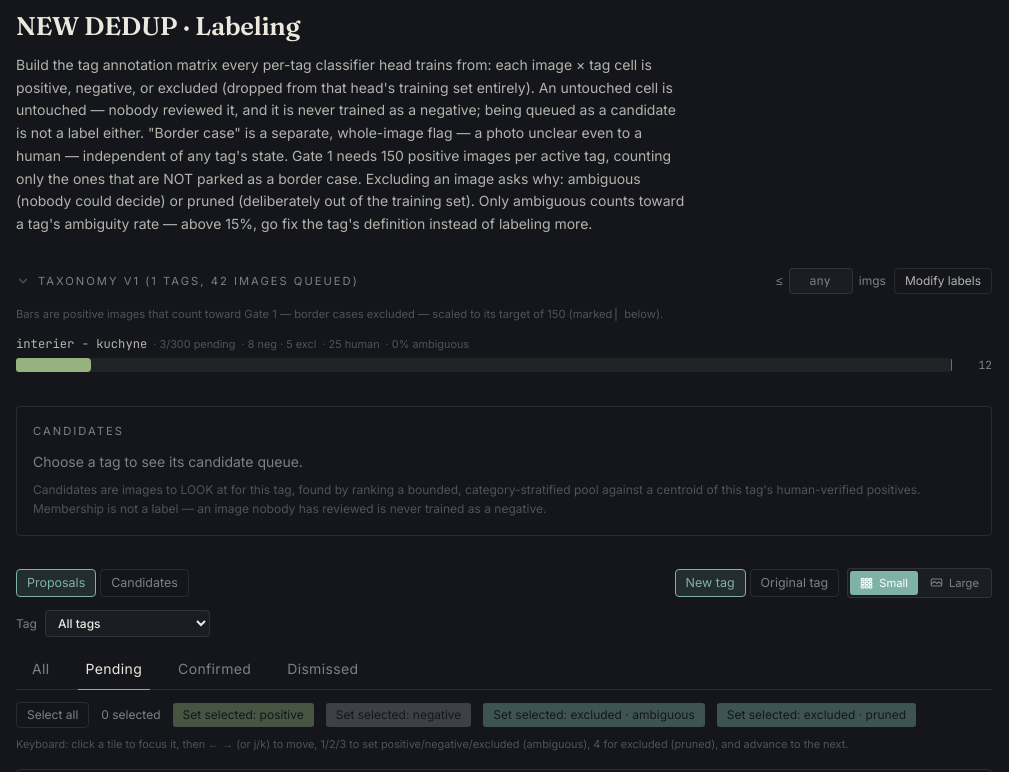
Scenario: <NewDedupLabeling> › collapses the taxonomy chart, keeping its header (and the coverage filter) reachable
This screenshot has width=1009, height=772.
Expected: the button "interier - kuchyne" is shown, [16, 335, 147, 353]
Step 1. Click the button "Taxonomy v1 (1 tags, 42 images queued)" → click(187, 281), box [16, 273, 359, 289]
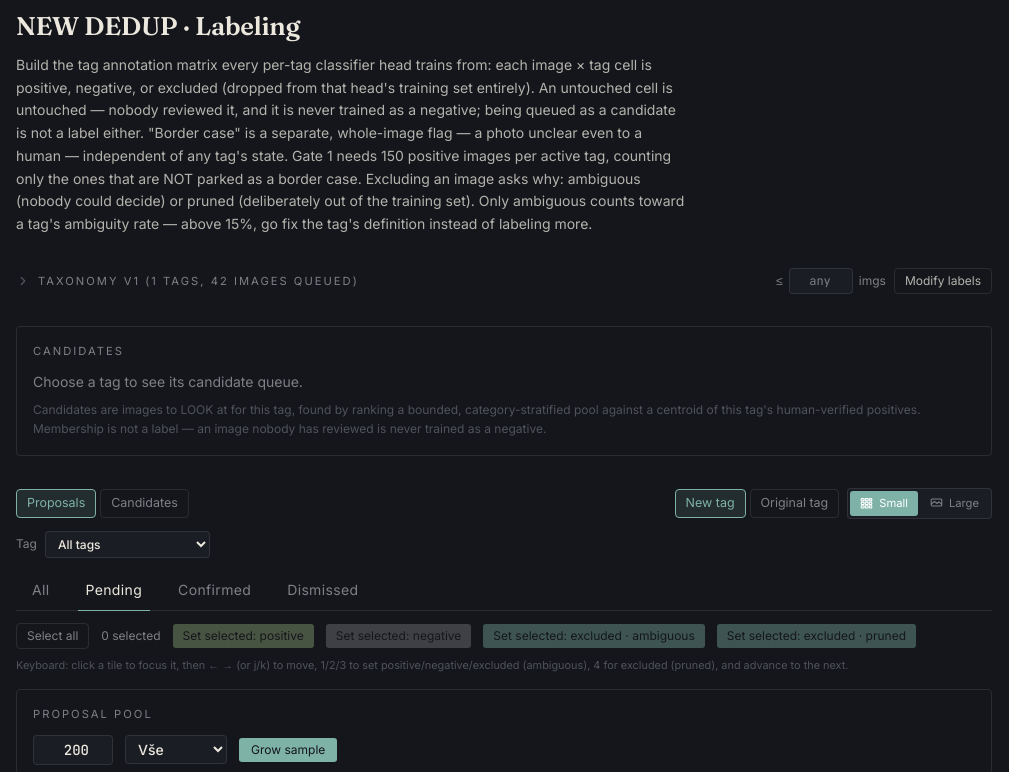
Expected: the button "interier - kuchyne" is not shown
Expected: the number field named "Max training images per tag" is shown, [789, 268, 853, 294]
Step 2. Click the button "Taxonomy v1 (1 tags, 42 images queued)" → click(187, 281), box [16, 273, 359, 289]
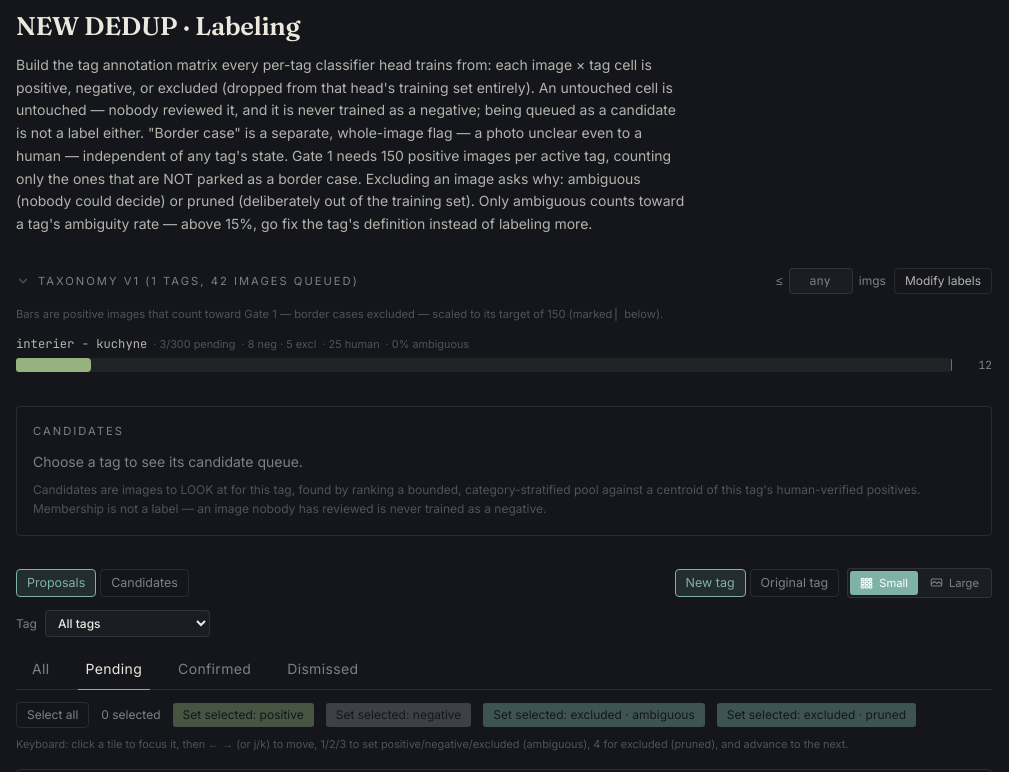
Result: the button "interier - kuchyne" is shown at [16, 335, 147, 353]
